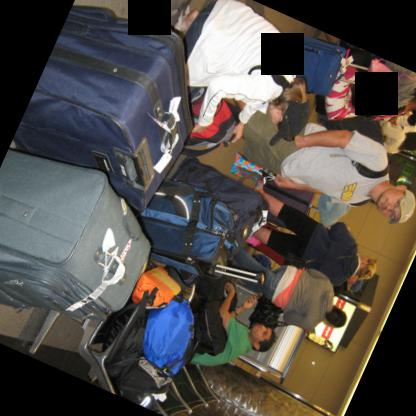backpack: (321, 109, 396, 211), (179, 85, 240, 156), (114, 355, 173, 409), (192, 301, 227, 356), (249, 254, 270, 270)
handbag: (323, 63, 358, 122), (131, 266, 179, 308), (228, 150, 275, 183), (281, 250, 357, 268), (246, 295, 285, 326), (364, 58, 397, 86)
suitcase: (12, 1, 196, 213), (0, 147, 153, 320), (137, 178, 263, 283), (176, 153, 271, 241), (290, 34, 344, 93)
